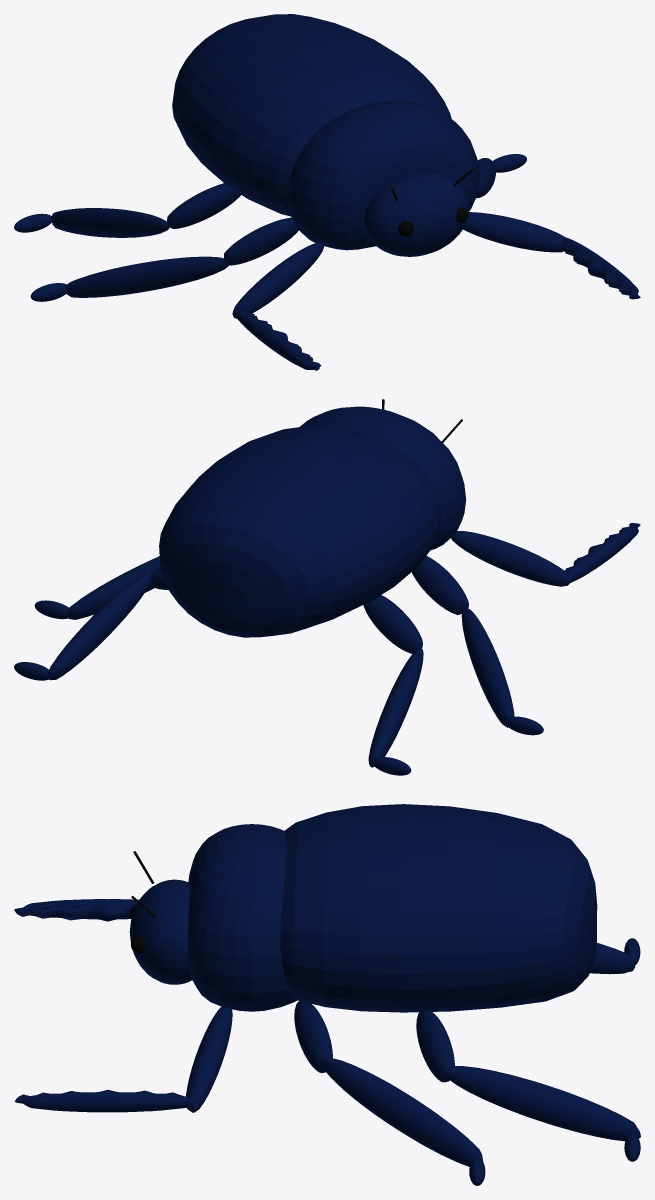
Rendered from Escarabajo pintao.glb.
3 views of the same model, one above another, from view 1: azimuth 30°, elevation 25°; view 2: azimuth 150°, elevation 25°; view 3: azimuth 270°, elevation 25° (orthographic). The views are drawn at different scales.
Parts seen in each view (by area): view 1: Esfera.001; view 2: Esfera.001; view 3: Esfera.001.
Part boxes in pixels (left/top/right/bottom): Esfera.001: left=14, top=14, right=640, bottom=370; Esfera.001: left=14, top=406, right=640, bottom=775; Esfera.001: left=14, top=804, right=640, bottom=1185.
Size of the model in its own units: 5.75 by 2.29 by 5.34.
